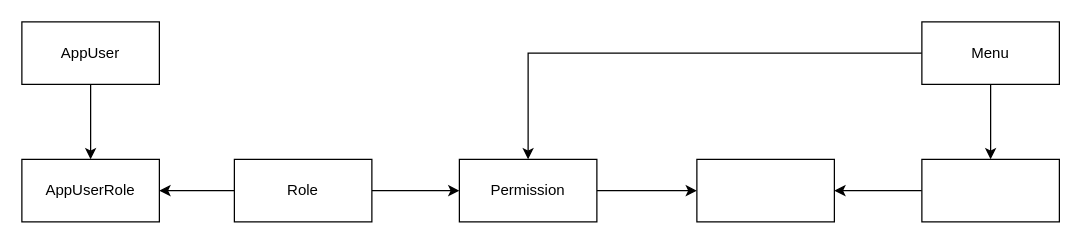
Some shapes in this 1081 by 244 pixel diagram are drawn without their labels. The centre of each missing label's shape, as x and y in pixels:
"Action" belongs at (x=990, y=190).
"PerAcMapping" belongs at (x=765, y=190).
